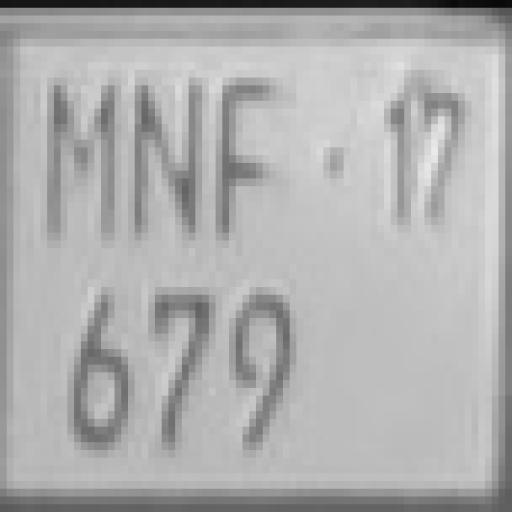6: (70, 286, 128, 454)
7: (134, 286, 218, 454)
9: (226, 300, 314, 450)
F: (205, 74, 291, 242)
M: (46, 83, 120, 245)
N: (123, 76, 198, 240)
